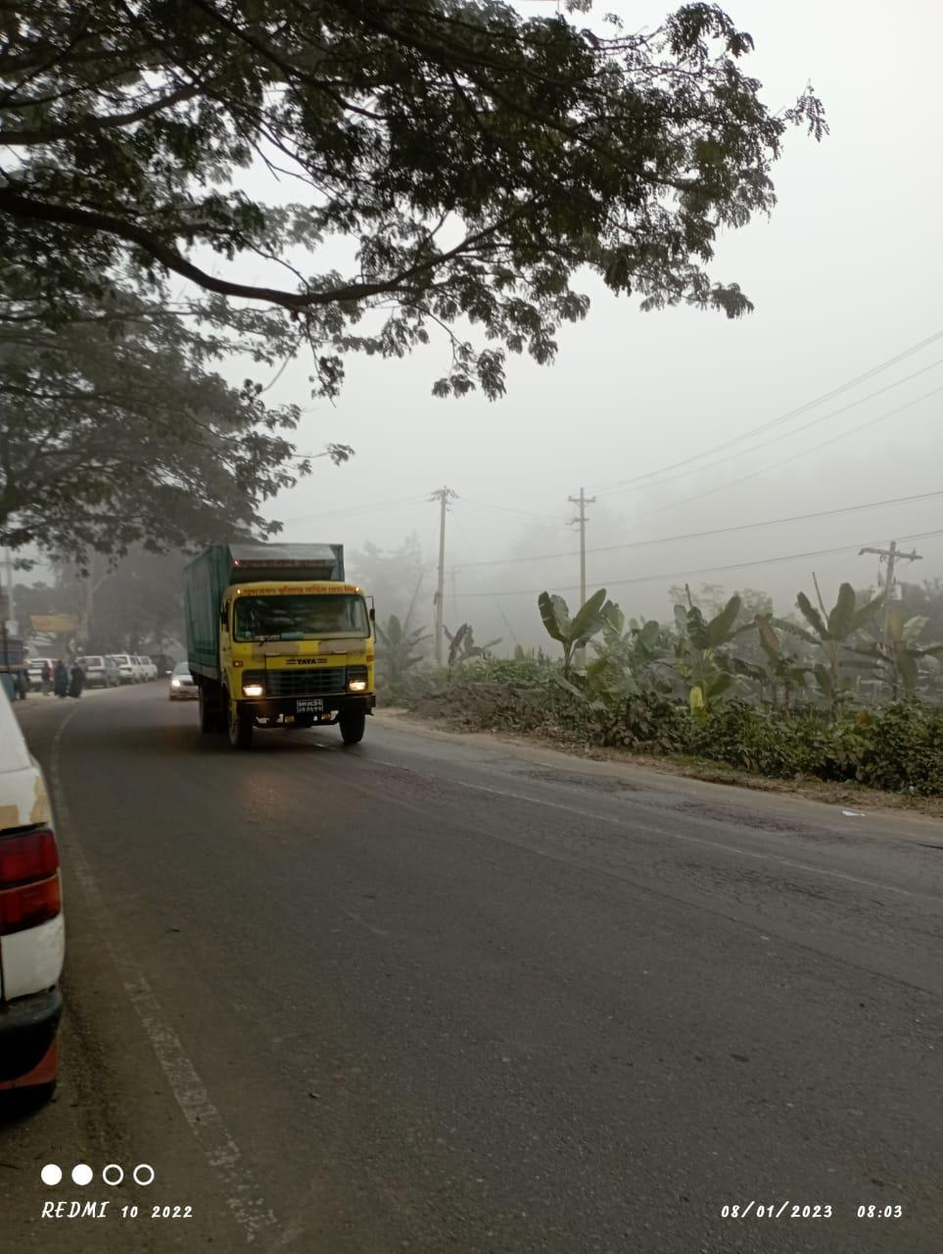Truck: (184, 534, 380, 748)
